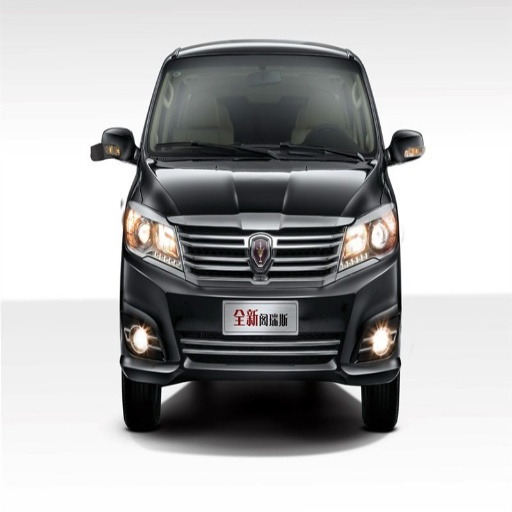front_bumper: (123, 217, 397, 385)
front_right_light: (124, 201, 181, 271)
hood: (138, 160, 385, 227)
left_mirror: (387, 129, 425, 167)
